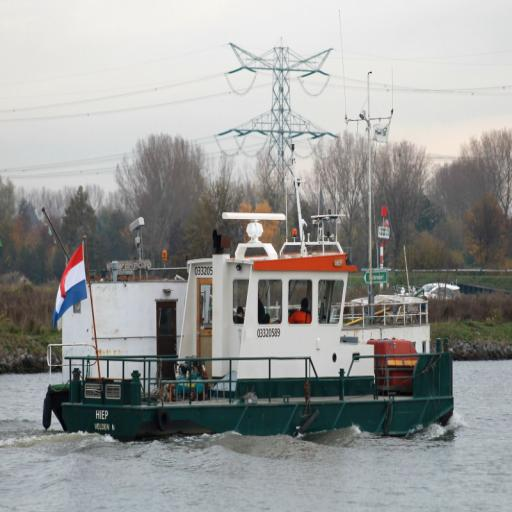tugboat: (40, 208, 459, 451)
